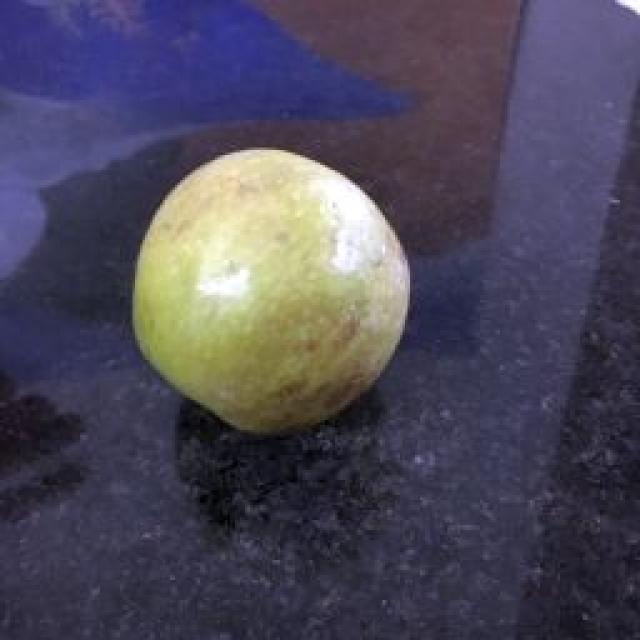Good_Apple: (130, 150, 410, 438)
